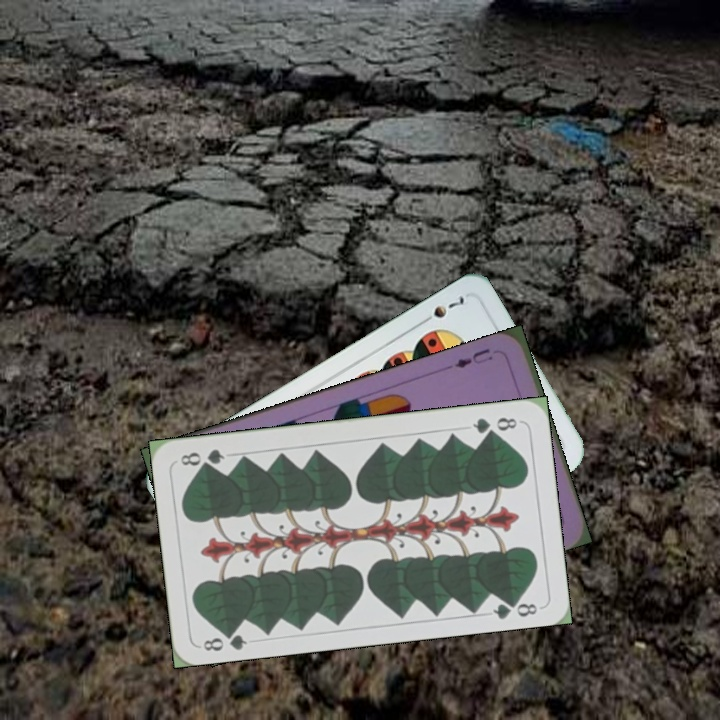EU: (451, 344, 495, 371)
G8: (199, 625, 250, 654), (469, 413, 523, 437)
S7: (415, 292, 467, 328)
